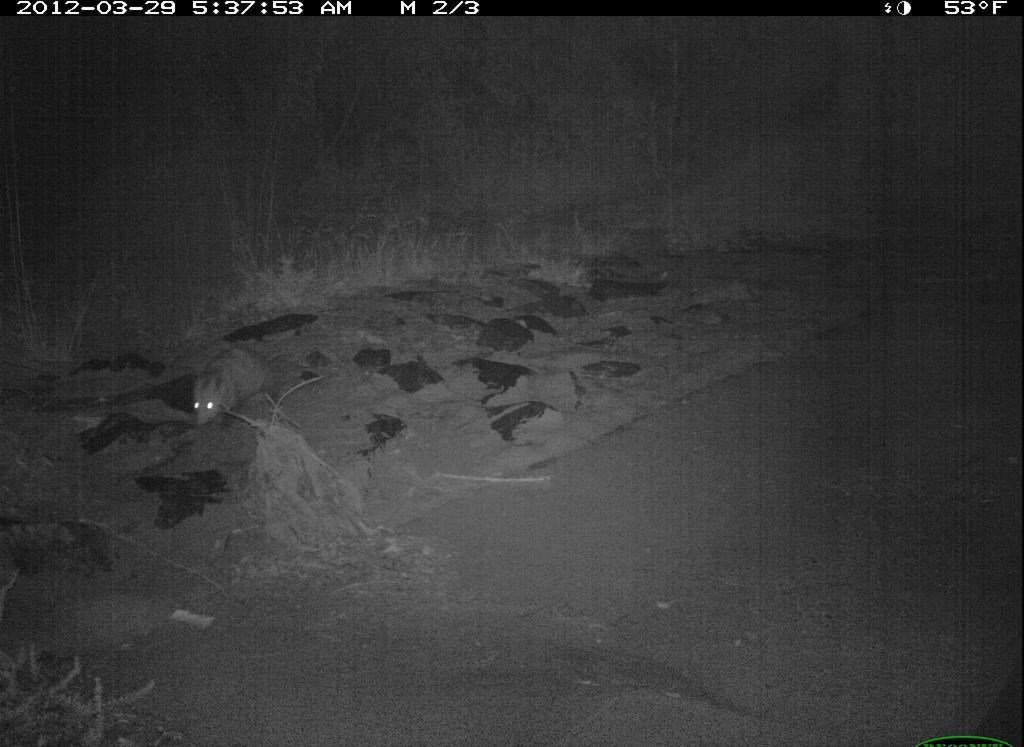opossum: (187, 340, 300, 438)
